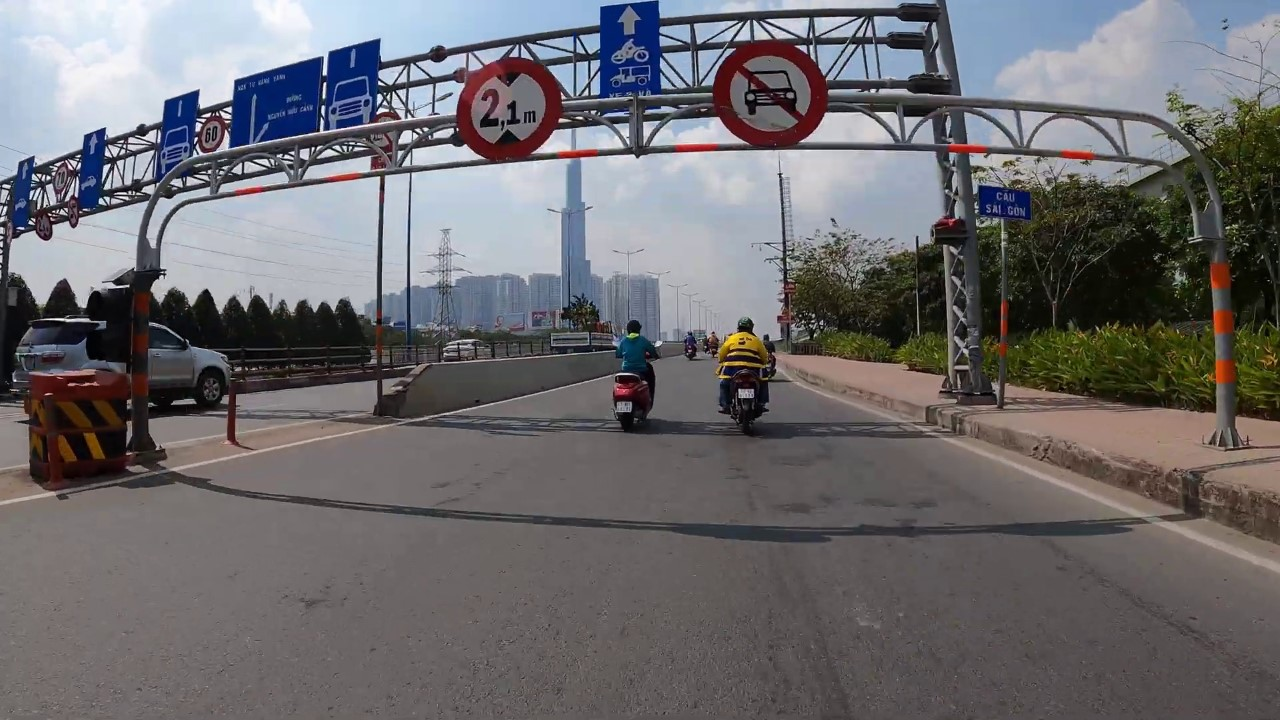gioi_han_60km: (197, 115, 226, 155)
